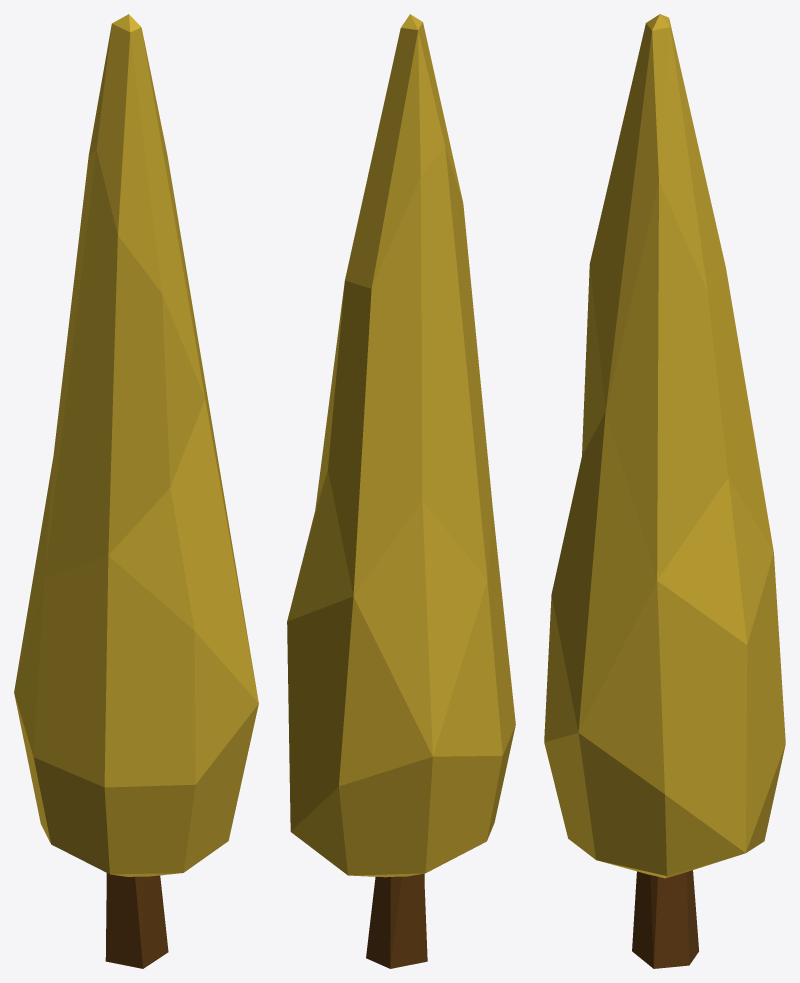
Rendered from co_Tree12_B.fbx.
The picture shows the model from 3 angles, left to right: view 1: azimuth 30°, elevation 25°; view 2: azimuth 150°, elevation 25°; view 3: azimuth 270°, elevation 25°; orthographic projection.
Parts seen in each view (by area): view 1: Tree12_B_LOD0; view 2: Tree12_B_LOD0; view 3: Tree12_B_LOD0.
Boxes of the visible parts, x1,y1,x2,y2 form: Tree12_B_LOD0: (14, 14, 258, 968); Tree12_B_LOD0: (287, 14, 515, 968); Tree12_B_LOD0: (544, 14, 785, 968).
Size of what is drawn, in the model's own units: 6.44 by 27.96 by 6.53.
